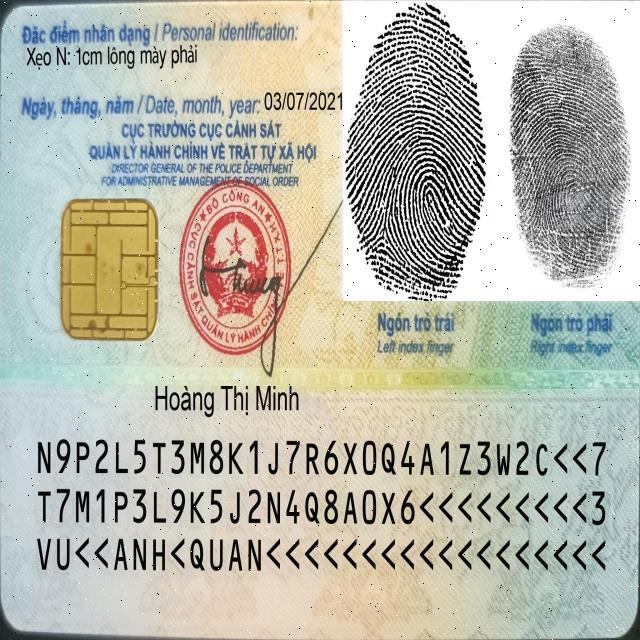features: (24, 42, 202, 71)
finger_print: (343, 0, 491, 360), (496, 3, 640, 363)
issue_date: (260, 84, 345, 116)
